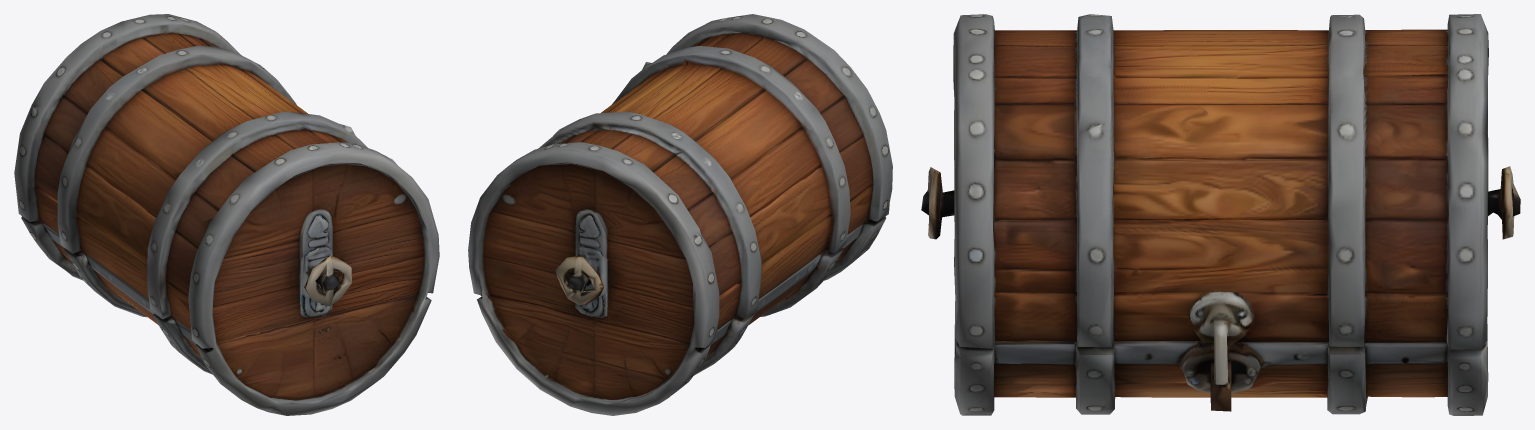
The model's file is treasure+chest+3d+model.obj.
The picture shows the model from 3 angles, left to right: view 1: azimuth 30°, elevation 25°; view 2: azimuth 150°, elevation 25°; view 3: azimuth 270°, elevation 25°; orthographic projection. The views are drawn at different scales.
Visible parts, largest first — view 1: tripo_node_9289f390-634c-4dd7-aa24-a35d25d1277d; view 2: tripo_node_9289f390-634c-4dd7-aa24-a35d25d1277d; view 3: tripo_node_9289f390-634c-4dd7-aa24-a35d25d1277d.
Part boxes in pixels (left/top/right/bottom): tripo_node_9289f390-634c-4dd7-aa24-a35d25d1277d: left=14, top=14, right=439, bottom=415; tripo_node_9289f390-634c-4dd7-aa24-a35d25d1277d: left=468, top=14, right=892, bottom=415; tripo_node_9289f390-634c-4dd7-aa24-a35d25d1277d: left=921, top=14, right=1520, bottom=415.
Size of the model in its own units: 0.6766 by 0.6777 by 0.9999.
Materials: 1 (1 with a texture image).
